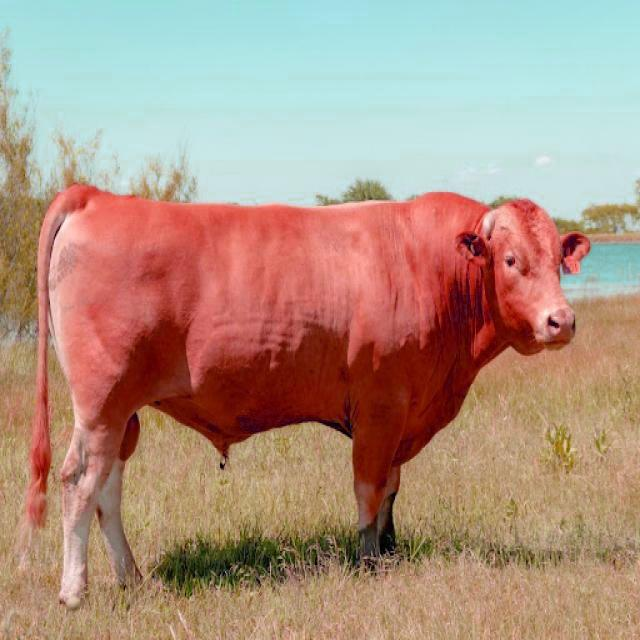cow: (26, 185, 589, 605)
